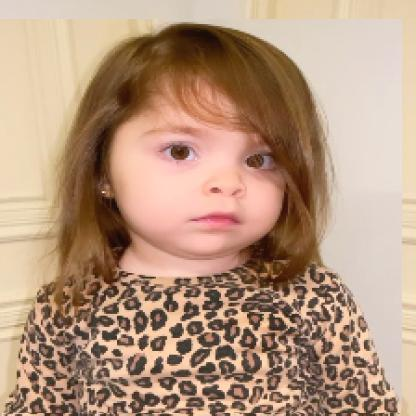child: (1, 20, 404, 415)
